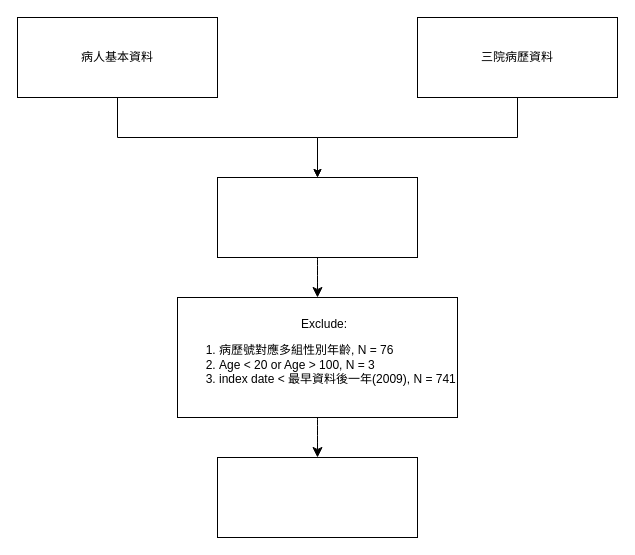
Image size: 635x555. Some labels were removed from this diagram. Here are the shapes that lost their labels. From the top down, the centre of each, then its label:
At pixel 317 217: "病人數量: N = 7692".
At pixel 317 497: "病人數量: N = 6872".
